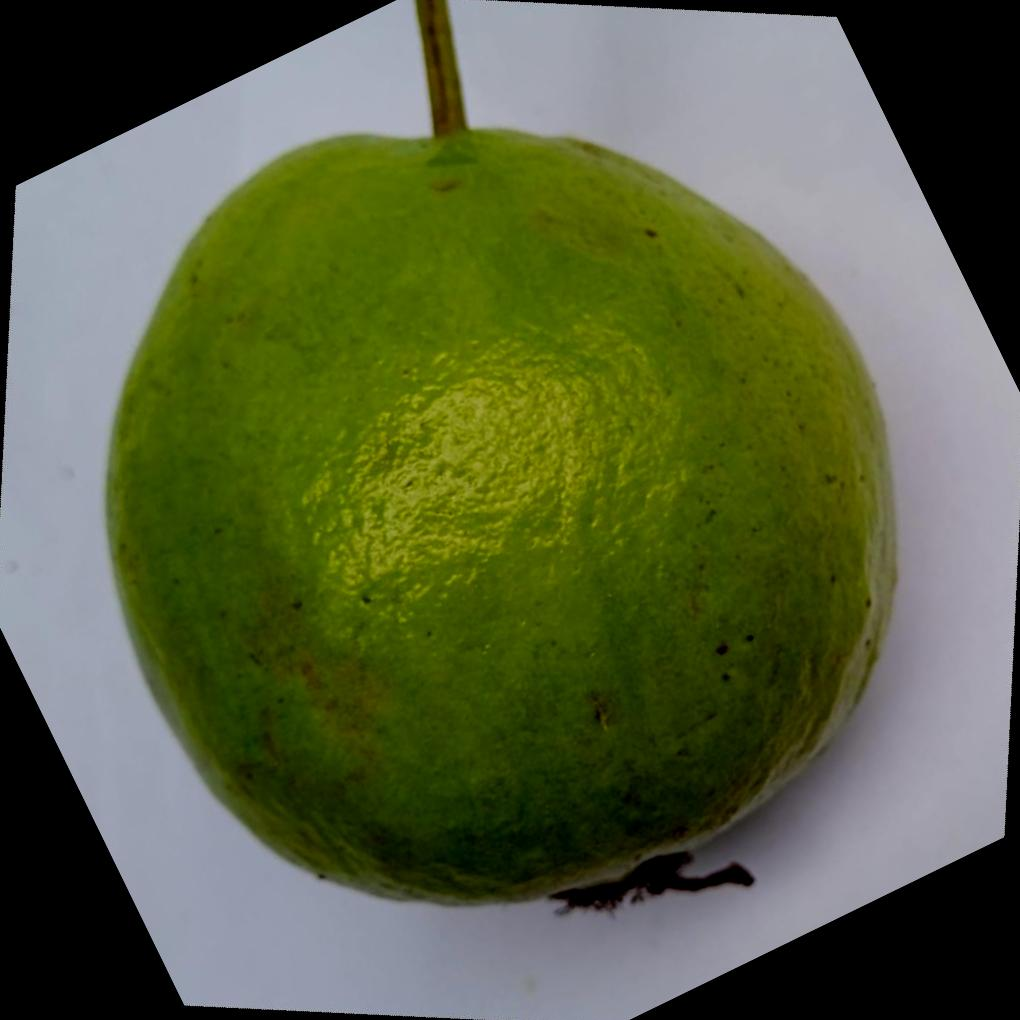FreshGuava: (104, 95, 902, 908)
